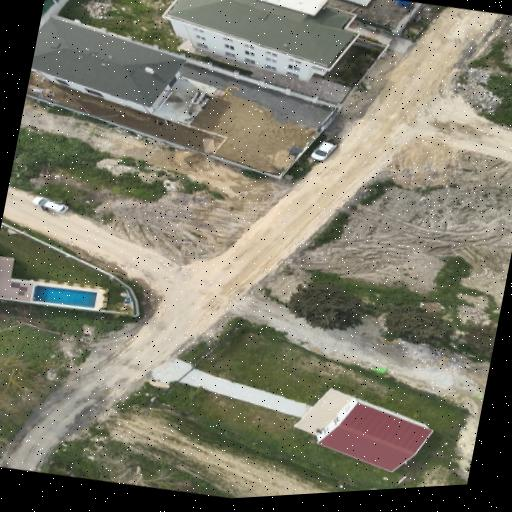car: (32, 197, 67, 214), (310, 142, 335, 161)
